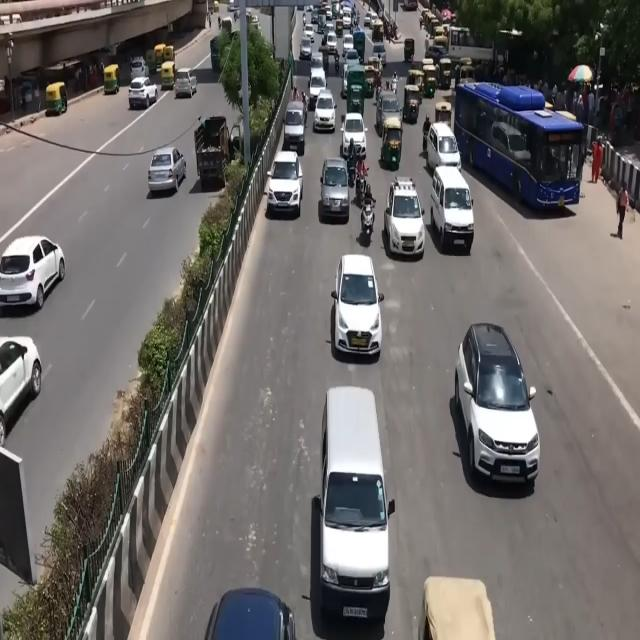auto: (379, 118, 404, 172), (402, 83, 423, 123), (45, 82, 68, 116), (434, 96, 452, 133), (422, 63, 438, 96), (407, 68, 425, 97), (160, 61, 177, 91), (103, 64, 120, 94), (459, 59, 475, 87), (152, 44, 166, 73), (146, 49, 158, 74), (162, 45, 175, 64)
bike-auto: (359, 184, 375, 232), (355, 157, 369, 197), (346, 136, 356, 182), (422, 114, 431, 153), (393, 69, 399, 100), (375, 72, 382, 98), (301, 89, 308, 115), (352, 10, 359, 30), (334, 54, 340, 74), (302, 12, 307, 27), (234, 10, 238, 22), (218, 16, 221, 30)
